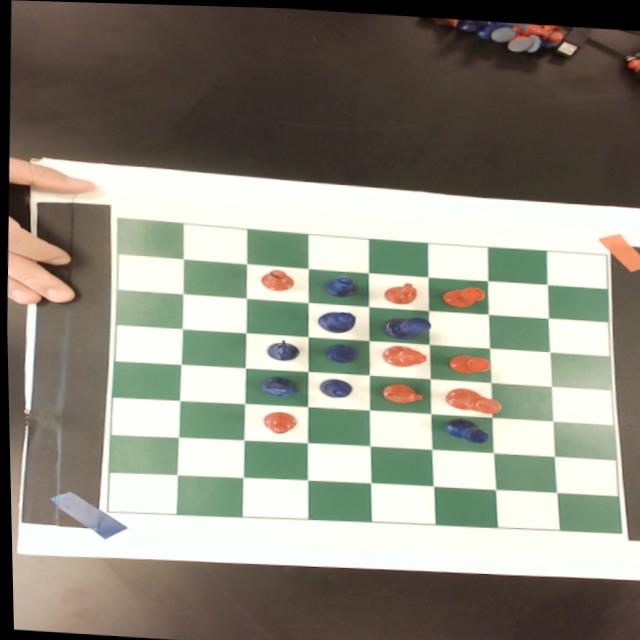B: (320, 271, 358, 296), (314, 375, 353, 397)
K: (379, 312, 430, 337)
N: (259, 372, 301, 397), (263, 334, 301, 358)
Q: (315, 306, 356, 331)
R: (438, 414, 489, 441), (323, 338, 359, 362)
b: (259, 408, 297, 432), (259, 264, 294, 290)
k: (442, 383, 500, 410)
n: (378, 378, 423, 401), (380, 278, 418, 302)
q: (378, 341, 427, 366)
r: (437, 279, 485, 306), (442, 349, 490, 372)
